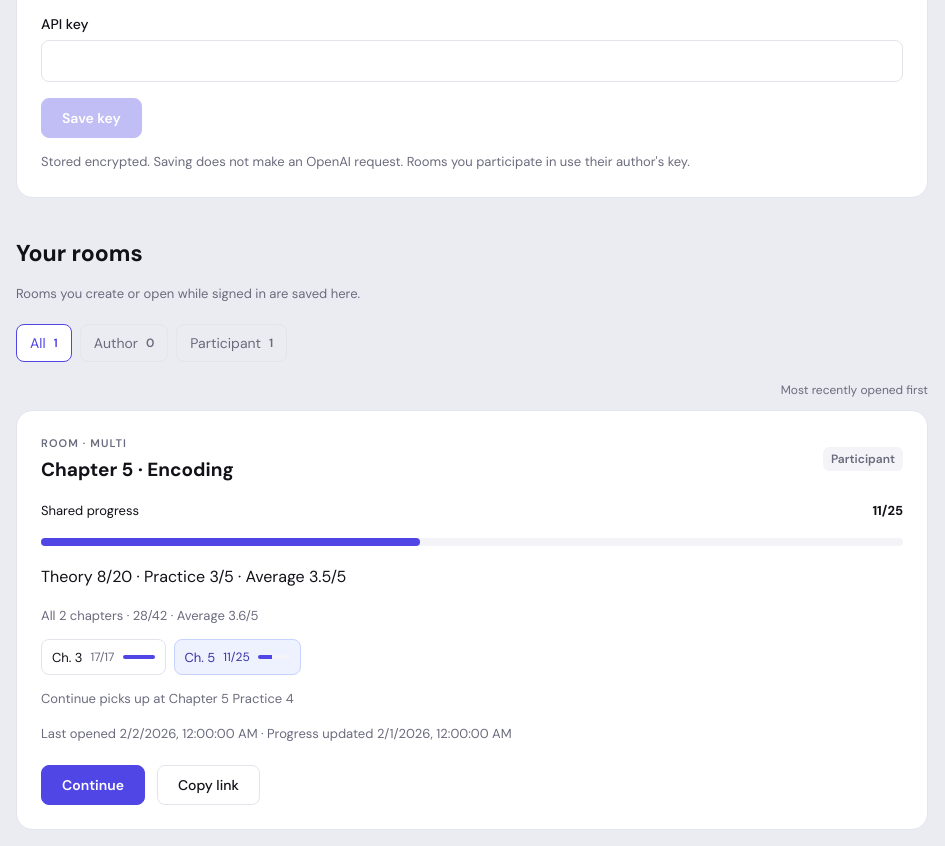
shows the active chapter first and switches the card's chapter and Continue from its chips, which are not links
The width and height of the screenshot is (945, 846).
(page scrolled)
Check: the heading "Chapter 5 · Encoding" is shown, box 41,457 -> 234,482
Check: the text "11/25" in the row of "Shared progress" is shown, box 872,502 -> 903,519
Click the button "Ch. 3 17/17" at (103, 657), box 41,639 -> 166,675
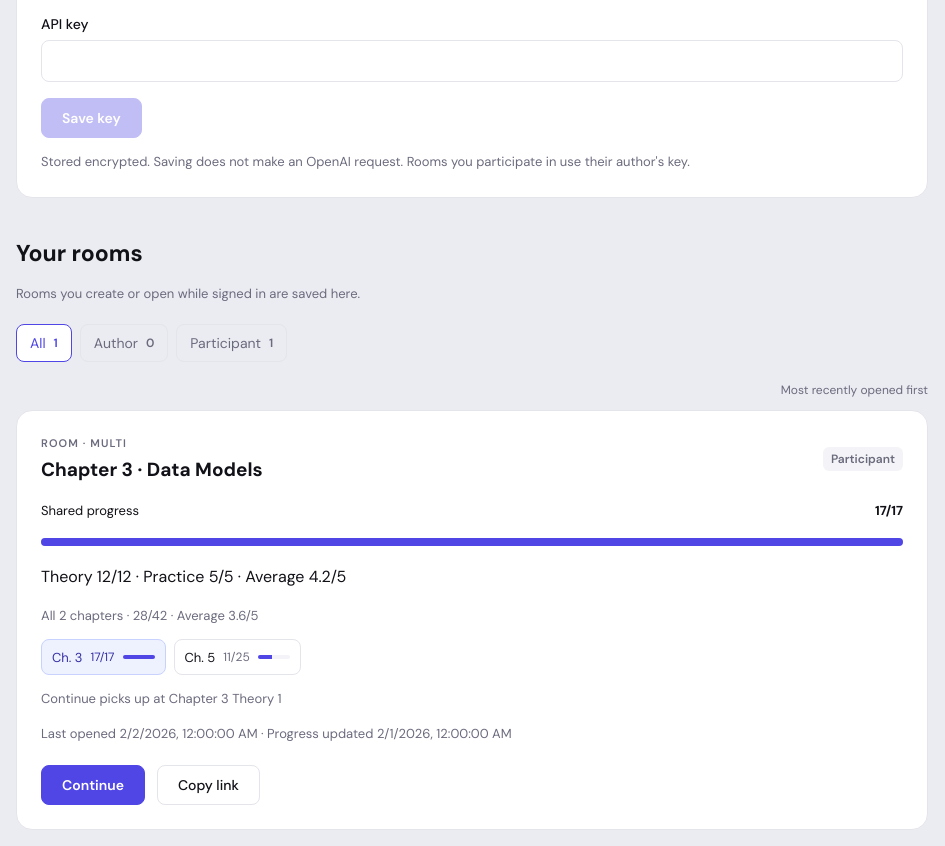
Check: the heading "Chapter 3 · Data Models" is shown, box 41,457 -> 263,482
Check: the text "17/17" in the row of "Shared progress" is shown, box 875,502 -> 903,519
Check: the text "Theory 12/12 · Practice 5/5 · Average 4.2/5" is shown, box 41,566 -> 346,587
